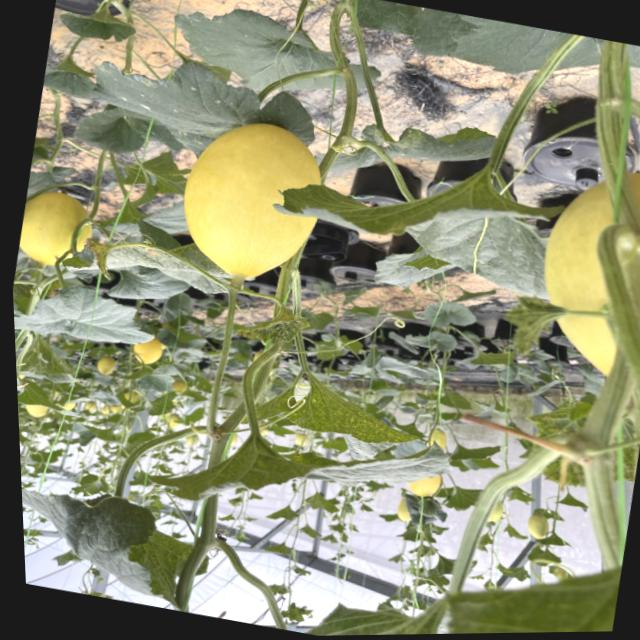CMV: (231, 299, 319, 354)
SLCV: (21, 473, 217, 617), (230, 300, 318, 352)
bacterial wilt: (76, 232, 120, 285)
downy mildew: (283, 137, 570, 297), (79, 45, 315, 151), (433, 9, 611, 95), (272, 374, 426, 472)
healthy: (169, 0, 366, 111), (12, 268, 162, 357), (368, 239, 460, 299), (334, 0, 424, 35), (604, 40, 640, 81)
powdery mildew: (76, 41, 329, 153)
